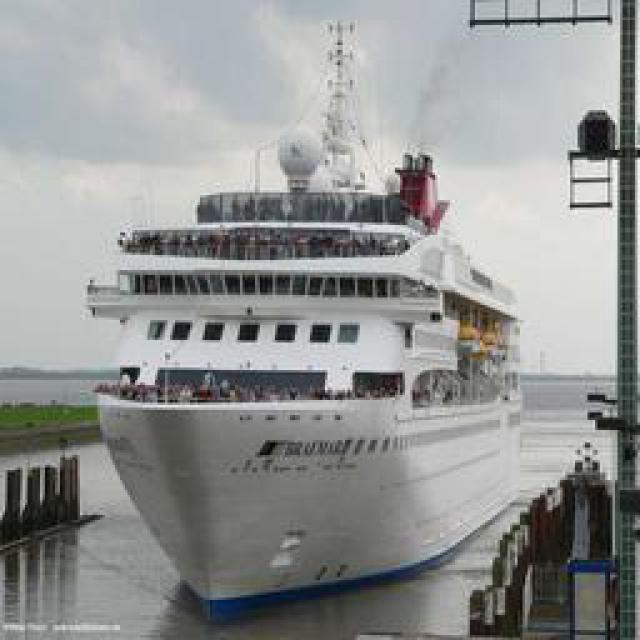Ship: (86, 62, 524, 625)
